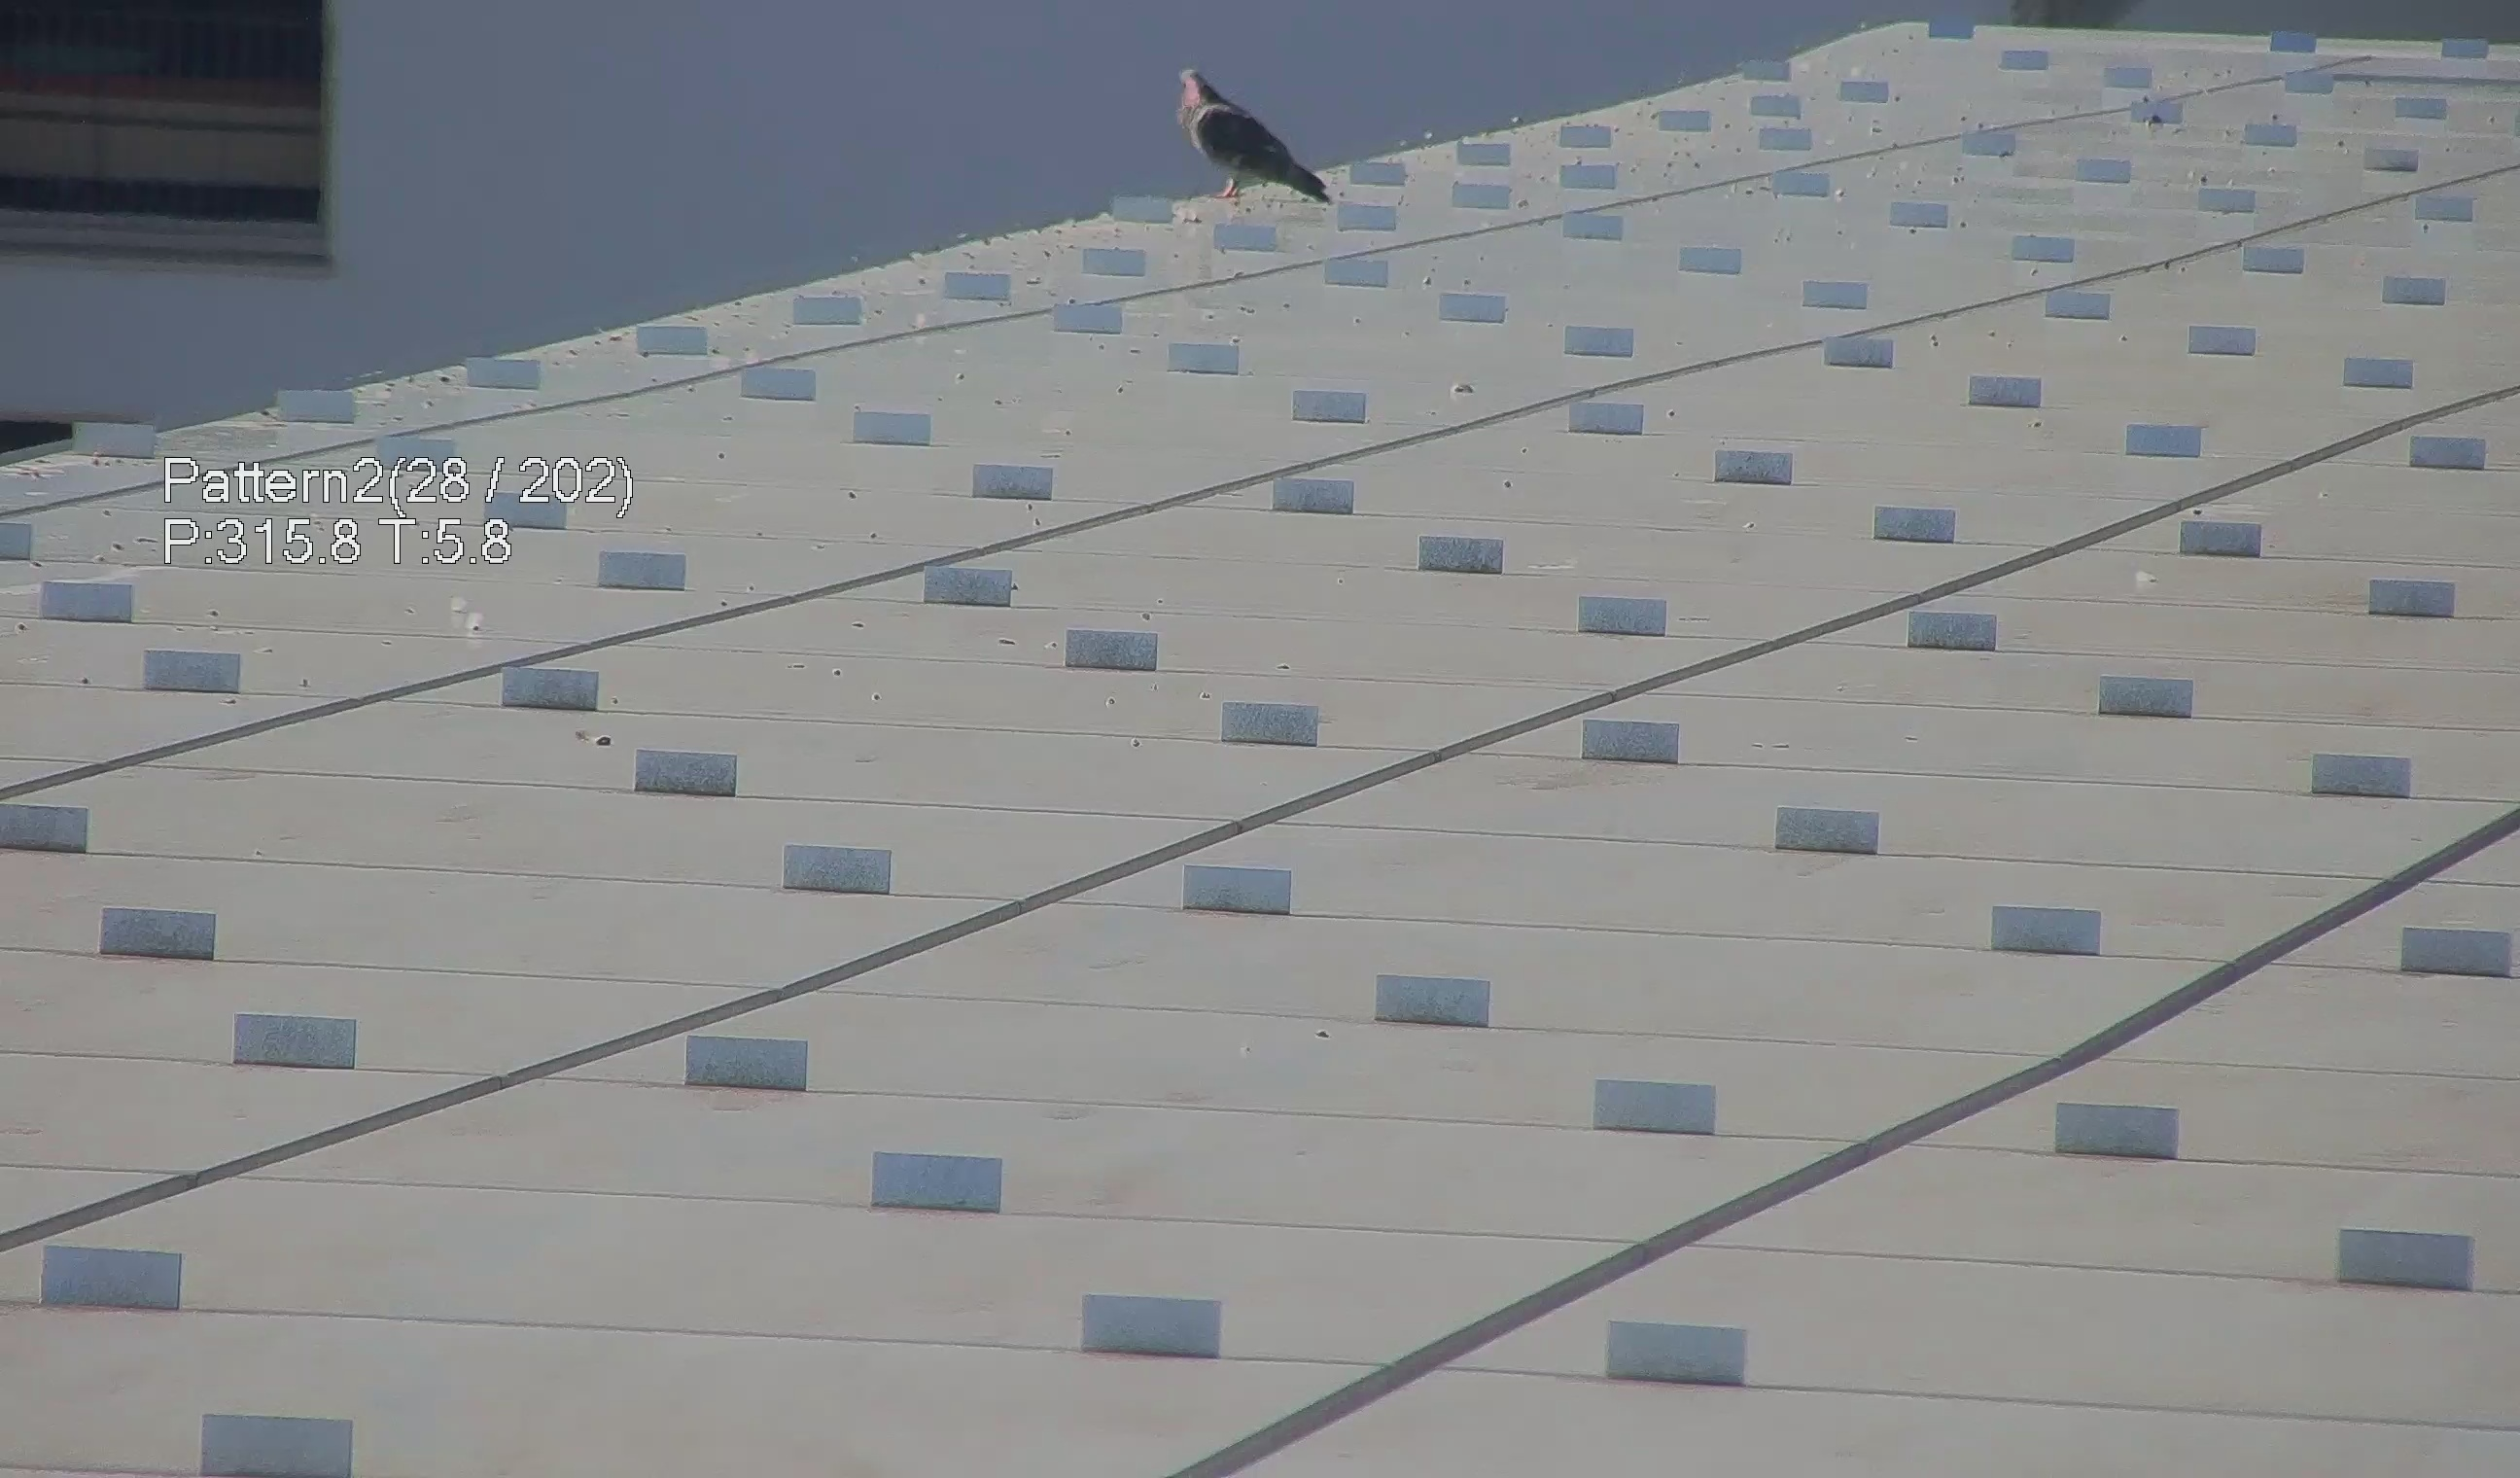Pigeon: (1168, 55, 1329, 208)
